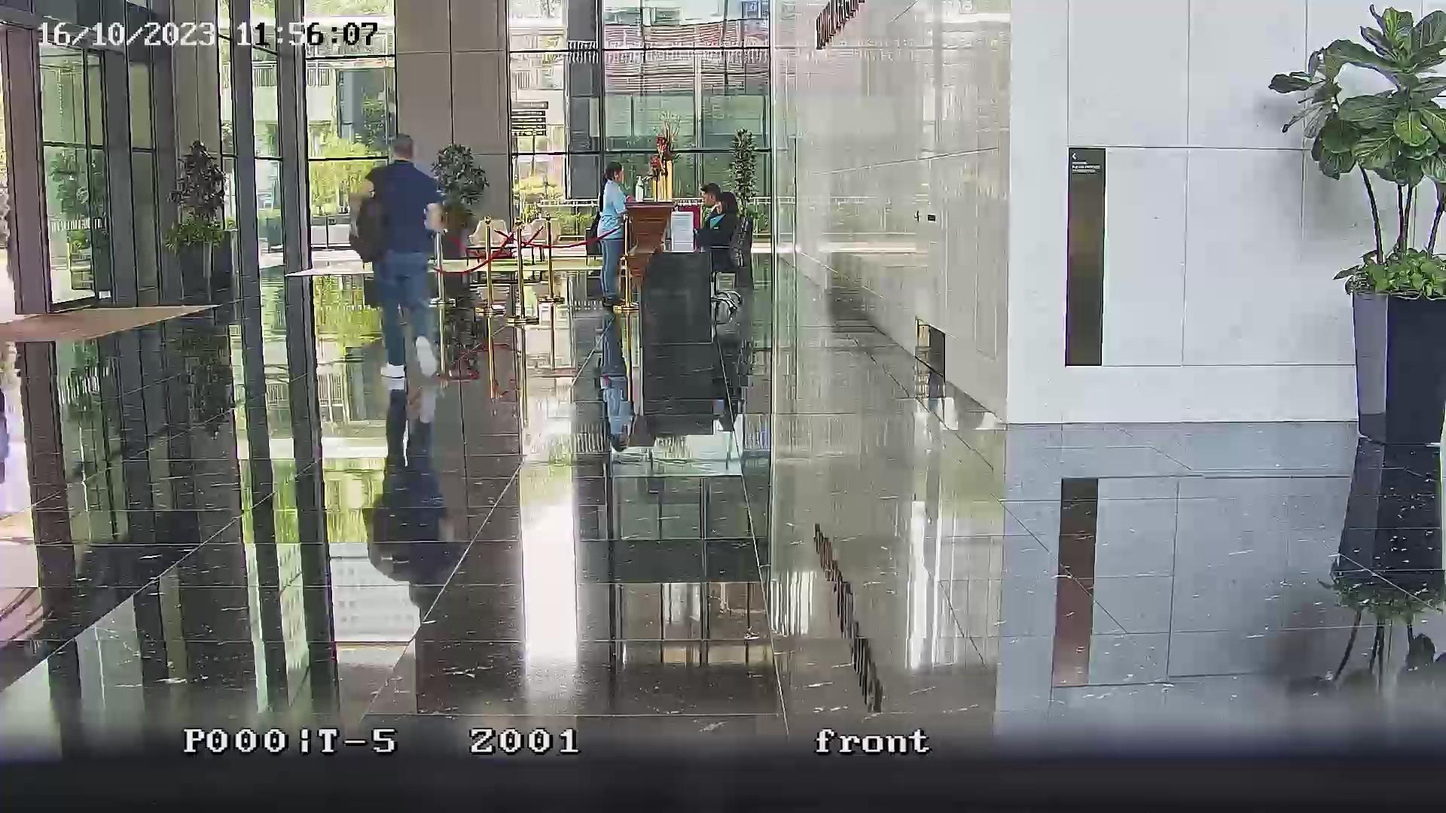person: (352, 133, 449, 379), (590, 162, 631, 307), (693, 183, 740, 262)
